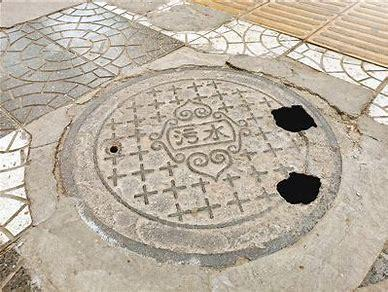wellcover: (71, 45, 358, 250)
